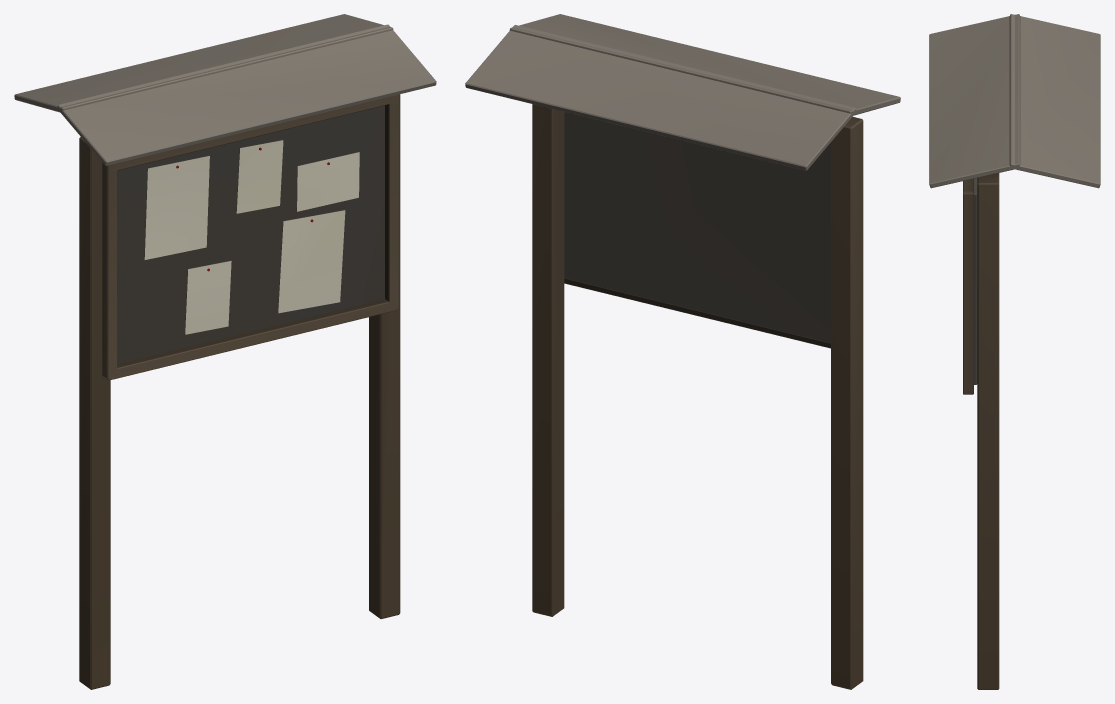
The model's file is boat_launch_notice_board.glb.
The picture shows the model from 3 angles, left to right: view 1: azimuth 30°, elevation 25°; view 2: azimuth 150°, elevation 25°; view 3: azimuth 270°, elevation 25°; orthographic projection. The views are drawn at different scales.
Parts seen in each view (by area): view 1: boat_launch_notice_board_LOD0; view 2: boat_launch_notice_board_LOD0; view 3: boat_launch_notice_board_LOD0.
Part boxes in pixels (<box>): boat_launch_notice_board_LOD0: <box>14,14,436,689</box>; boat_launch_notice_board_LOD0: <box>465,14,900,689</box>; boat_launch_notice_board_LOD0: <box>929,14,1100,689</box>.
Size of what is drawn, in the model's own units: 1.6 by 2.64 by 0.7716.
